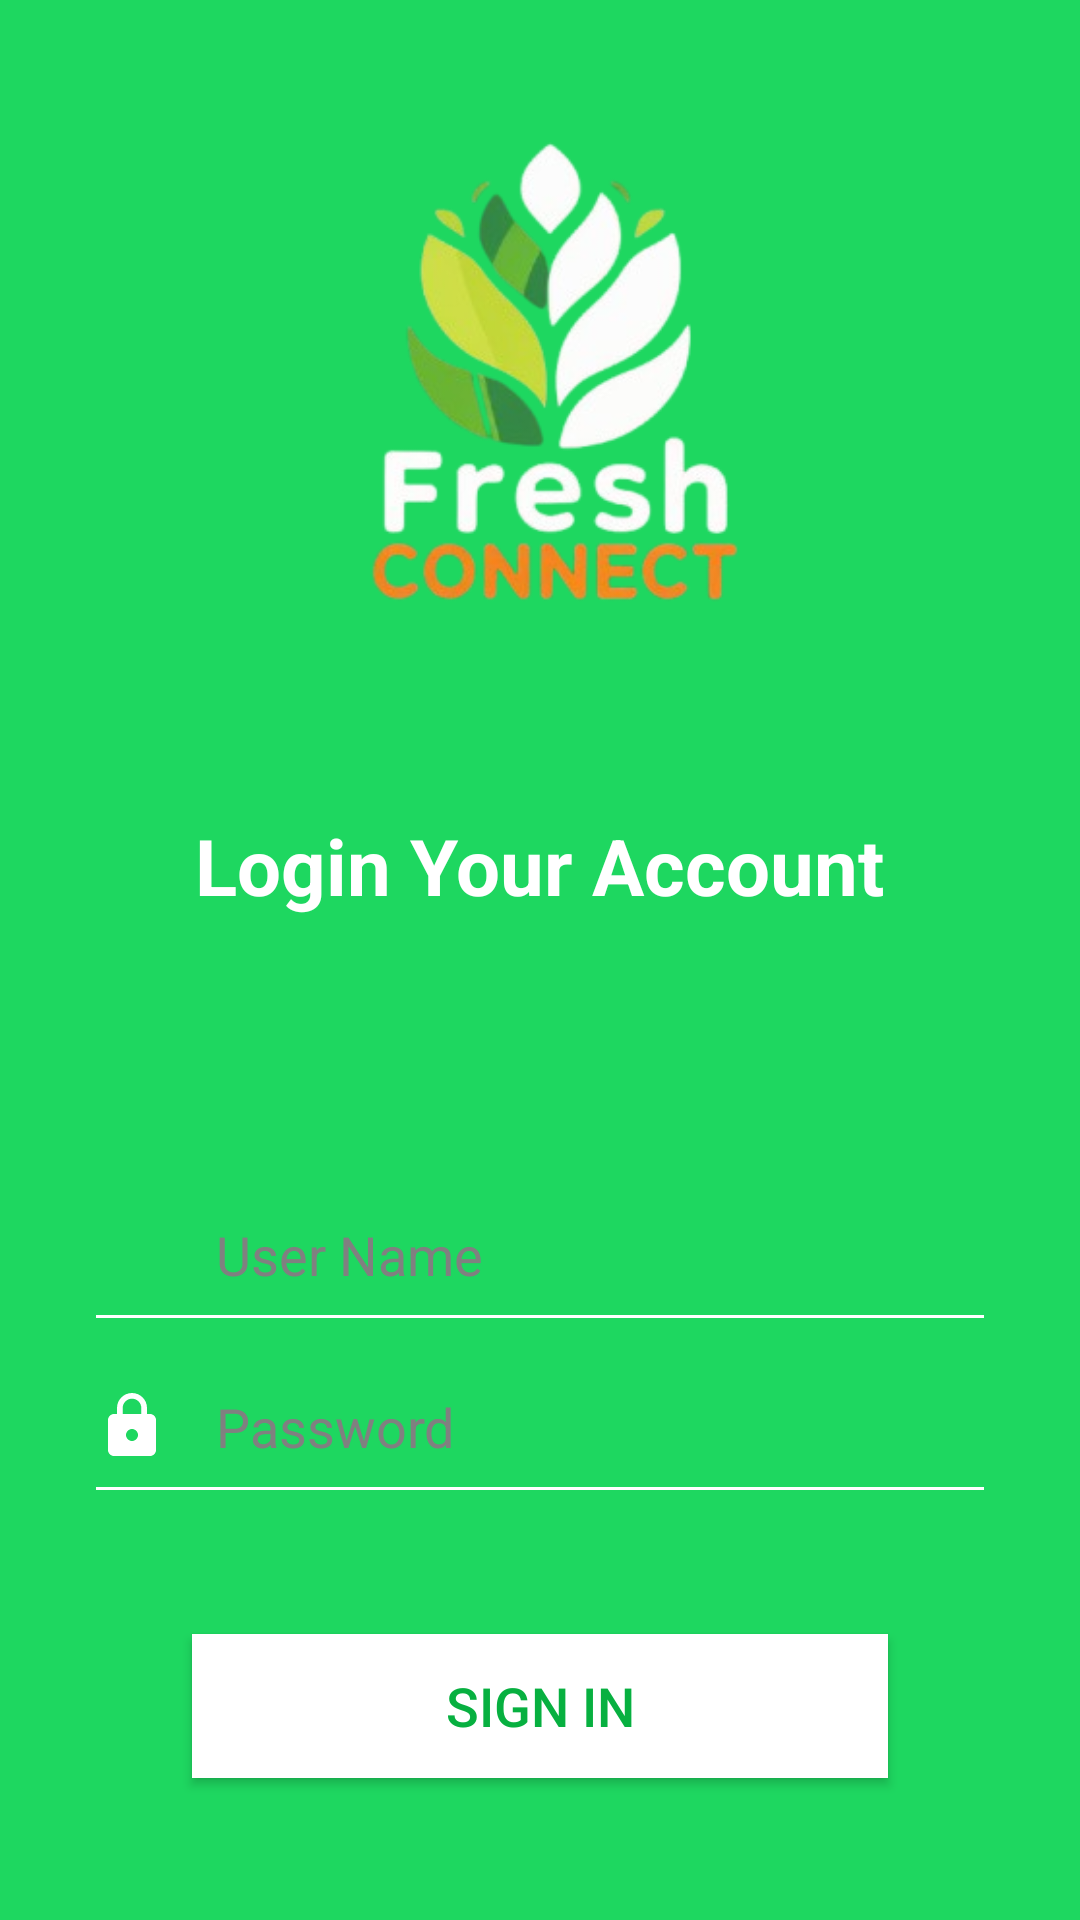

Icon click points for this 1080 × 1920 phone screenshot, format (x,y):
lock: (132,1424)
